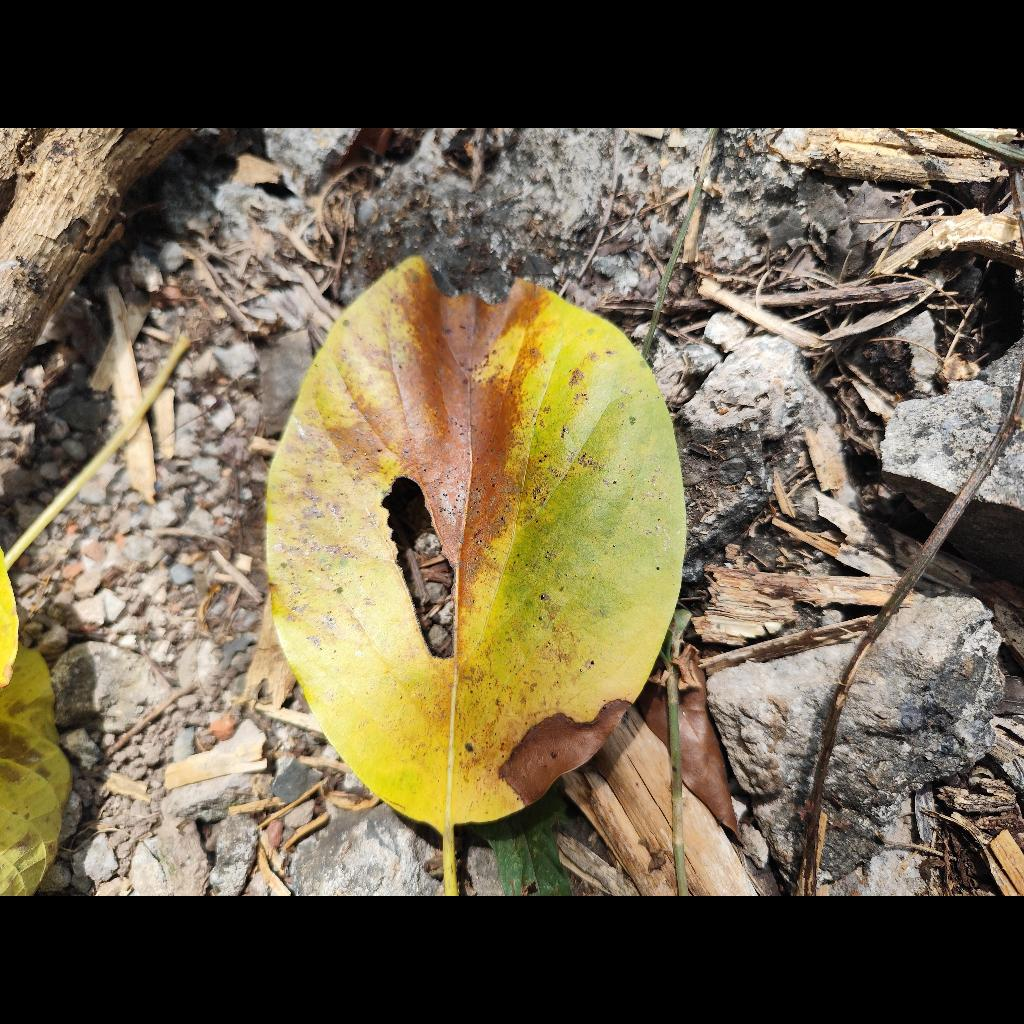deficiencia_nutricional: (266, 257, 686, 896)
